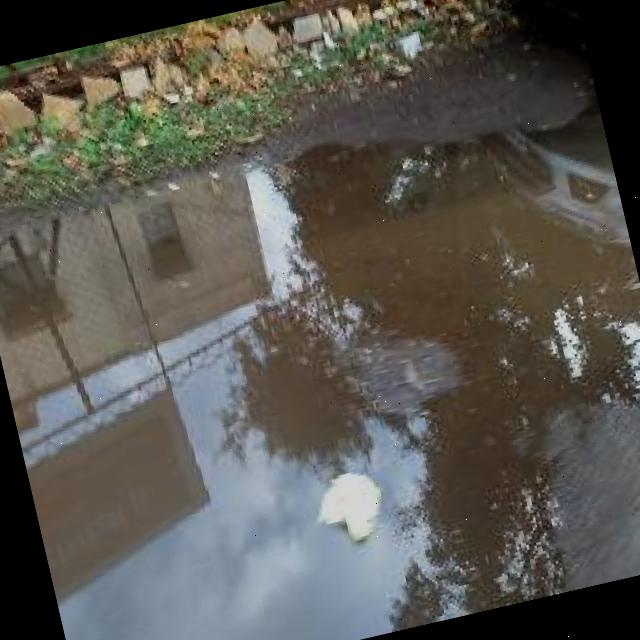stagnation: (0, 79, 640, 640)
